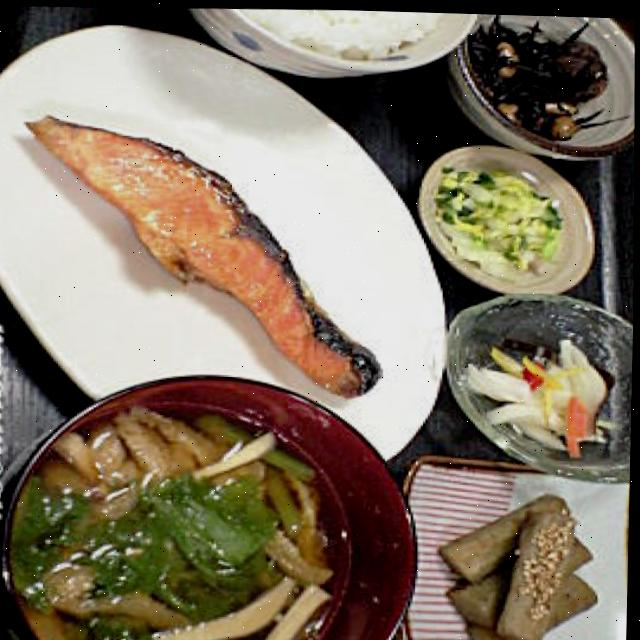熟制海鲜: (0, 90, 404, 408)
